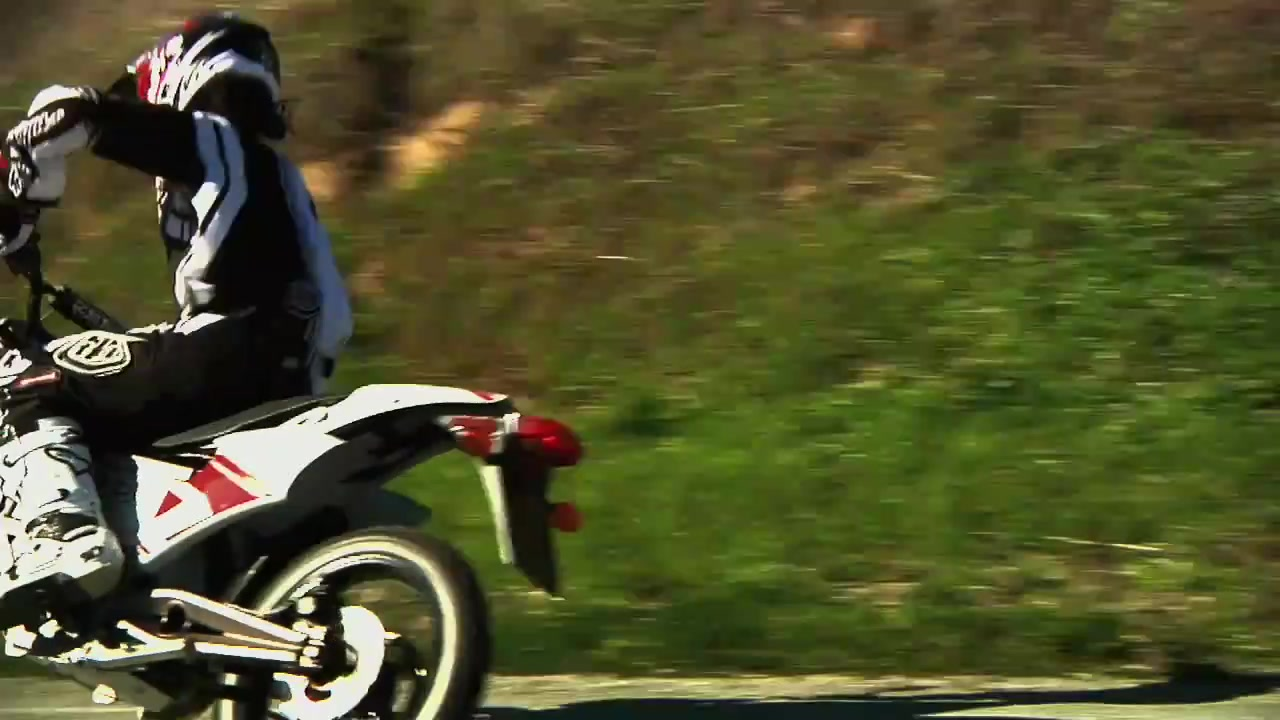motorbike: (4, 176, 591, 720)
